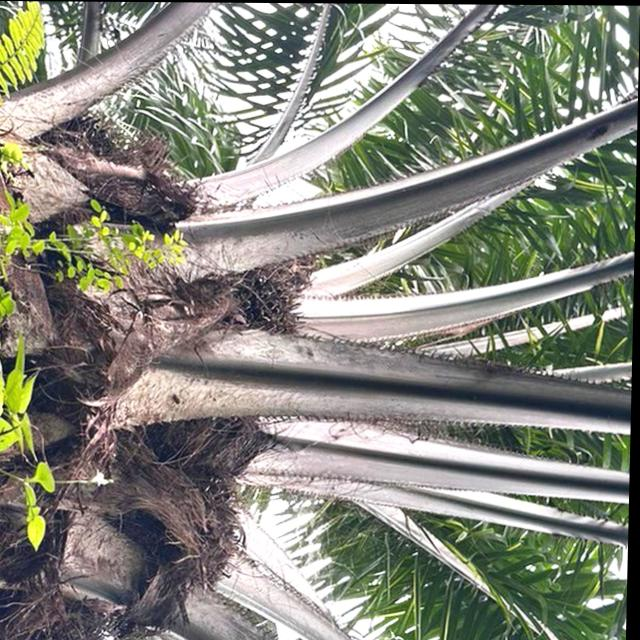unripe: (187, 251, 313, 362)
